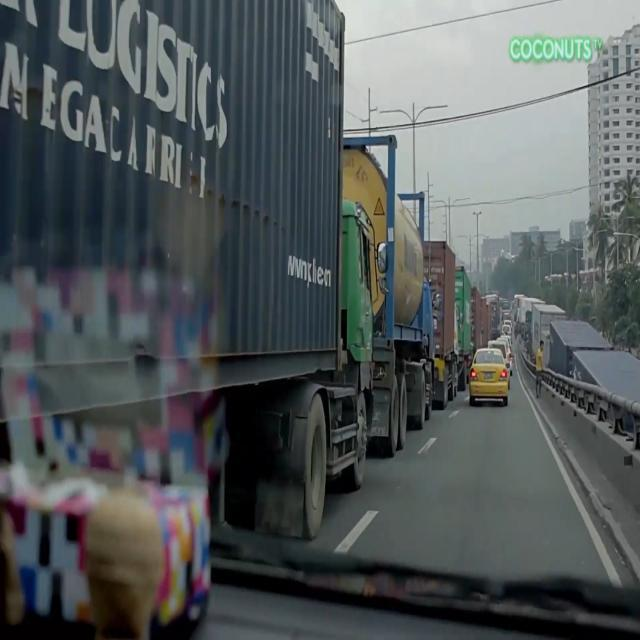truck: (0, 0, 389, 539), (336, 133, 436, 460), (572, 351, 640, 448), (423, 240, 460, 410), (542, 320, 616, 382), (526, 304, 568, 368), (455, 266, 474, 392)
